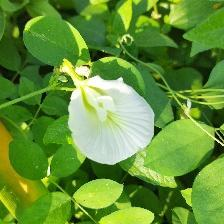shankupushpam: (68, 78, 158, 167)
